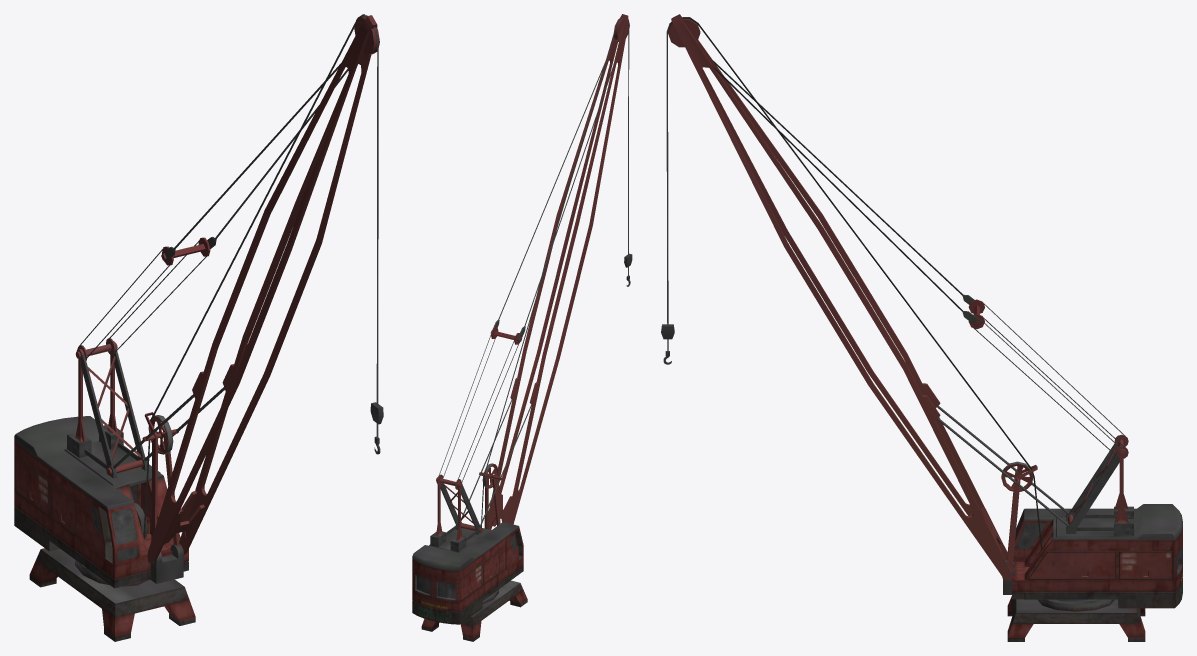
Rendered from lodredockrane_las.obj.
3 views of the same model, side by side, from view 1: azimuth 30°, elevation 25°; view 2: azimuth 150°, elevation 25°; view 3: azimuth 270°, elevation 25° (orthographic). The views are drawn at different scales.
Visible parts, largest first — view 1: lodredockrane_las; view 2: lodredockrane_las; view 3: lodredockrane_las.
Part boxes in pixels (x1,y1,x2,y2): lodredockrane_las: (14, 14, 383, 641); lodredockrane_las: (412, 14, 632, 641); lodredockrane_las: (661, 14, 1182, 641).
Size of the model in its own units: 3.79 by 34.12 by 26.19.
Materials: 1 (1 with a texture image).
